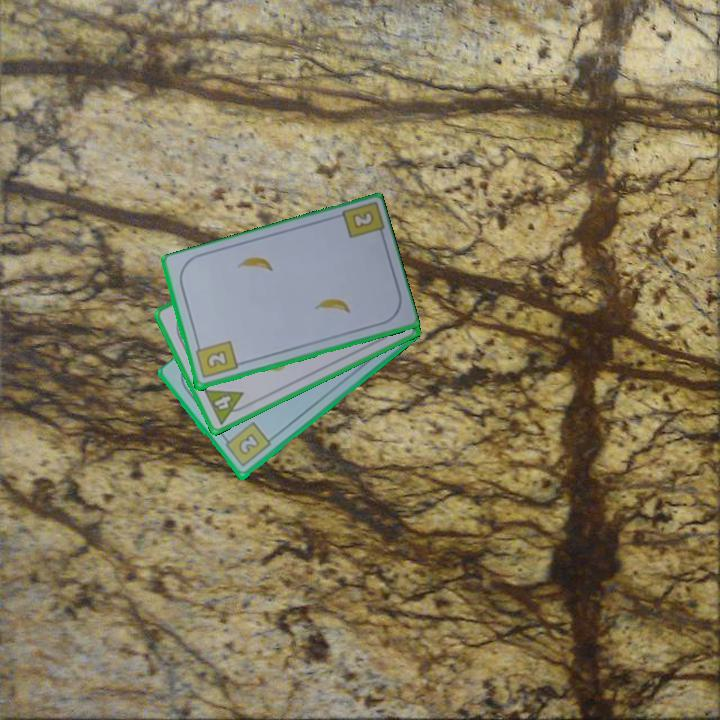2b: (220, 419, 273, 470), (192, 338, 240, 381), (351, 210, 375, 230)
4p: (200, 386, 252, 427)
